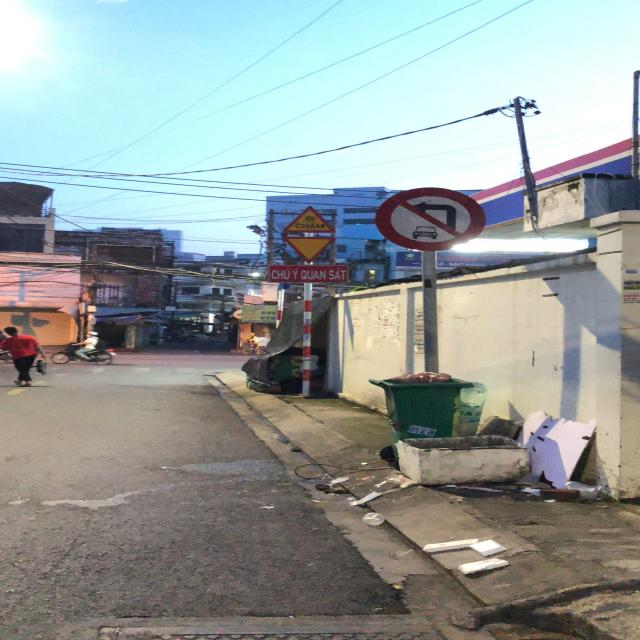Bien bao cam xe o to re trai: (375, 184, 492, 251)
Bien bao di cham: (282, 204, 342, 235)
Bien bao giao nhau voi duong uu tien: (280, 234, 343, 263)
